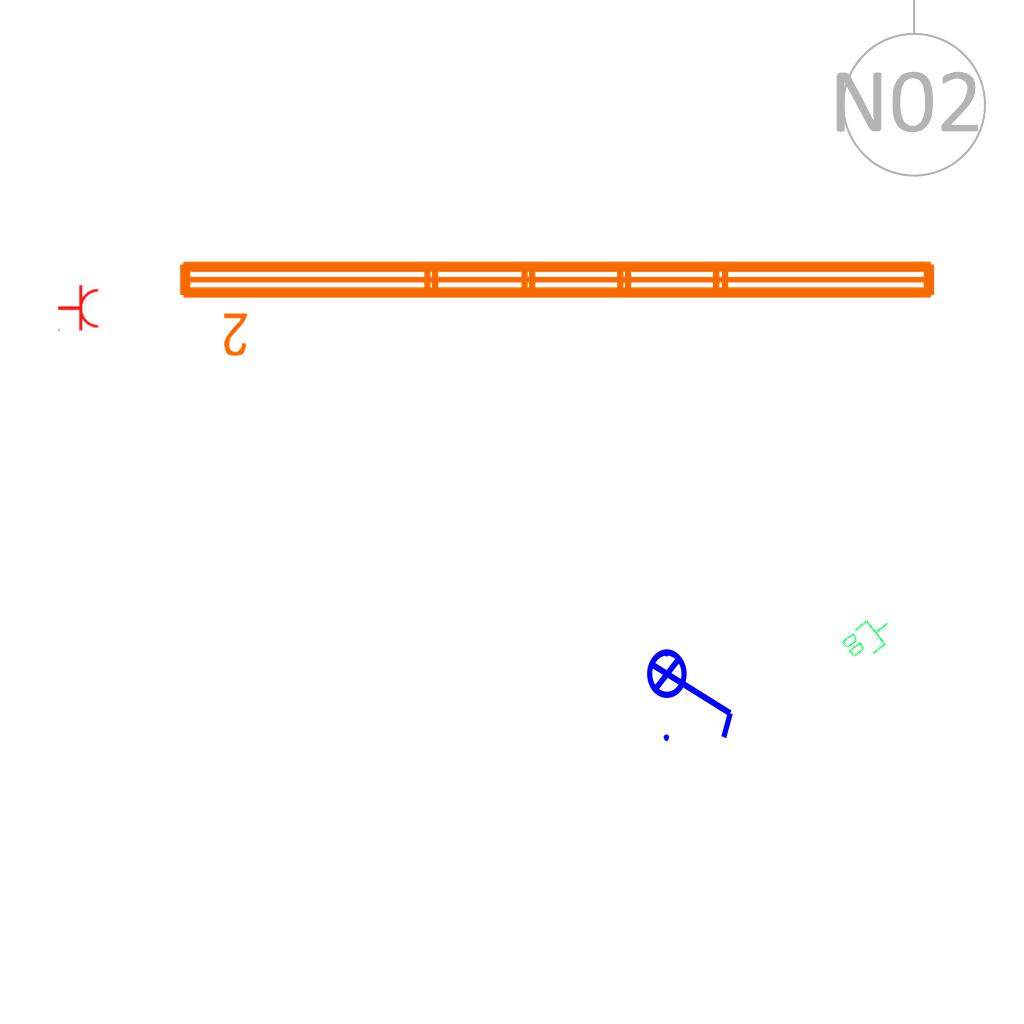Ambulanz_Pendelleuchte_LED: (171, 249, 945, 361)
Ausschalter_beleuchtet: (645, 635, 741, 747)
Datenanschluss_zweifach: (837, 608, 900, 668)
Schukosteckdose_einfach: (57, 284, 100, 334)
